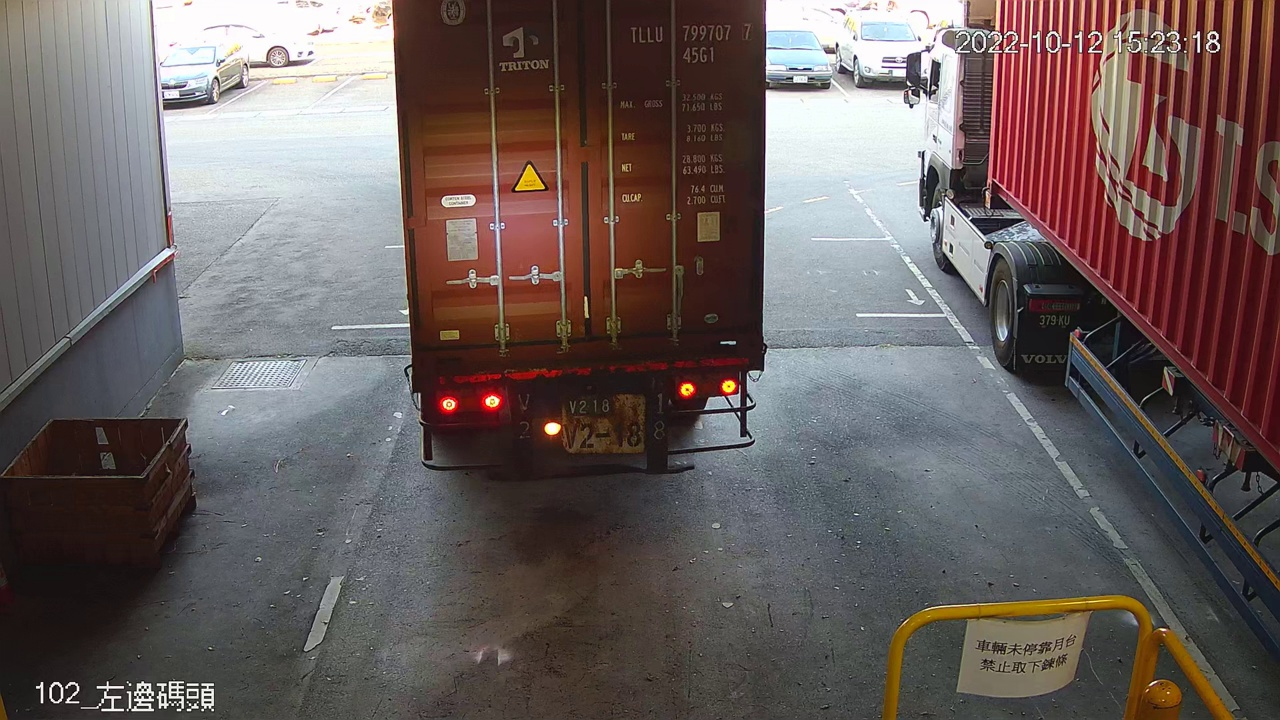container: (624, 16, 762, 68)
